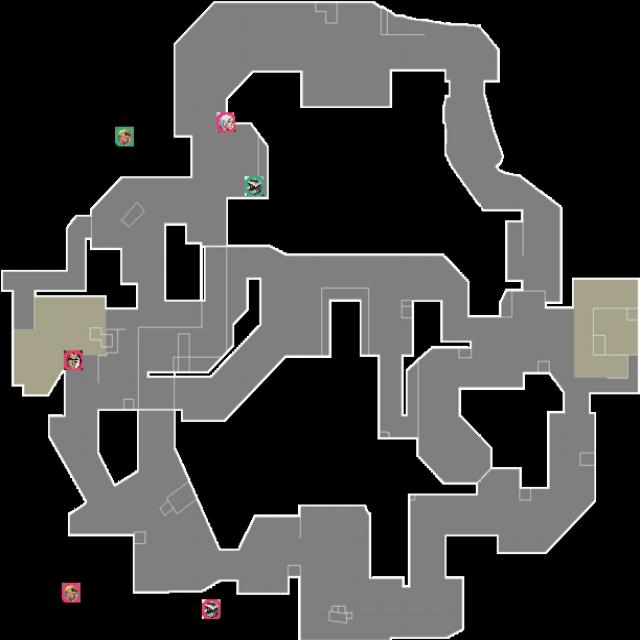atk_chamber: (64, 350, 82, 370)
atk_cypher: (202, 599, 220, 619)
atk_gekko: (61, 582, 80, 602)
atk_jett: (217, 112, 236, 132)
def_cypher: (244, 176, 264, 196)
def_gekko: (115, 126, 134, 146)
